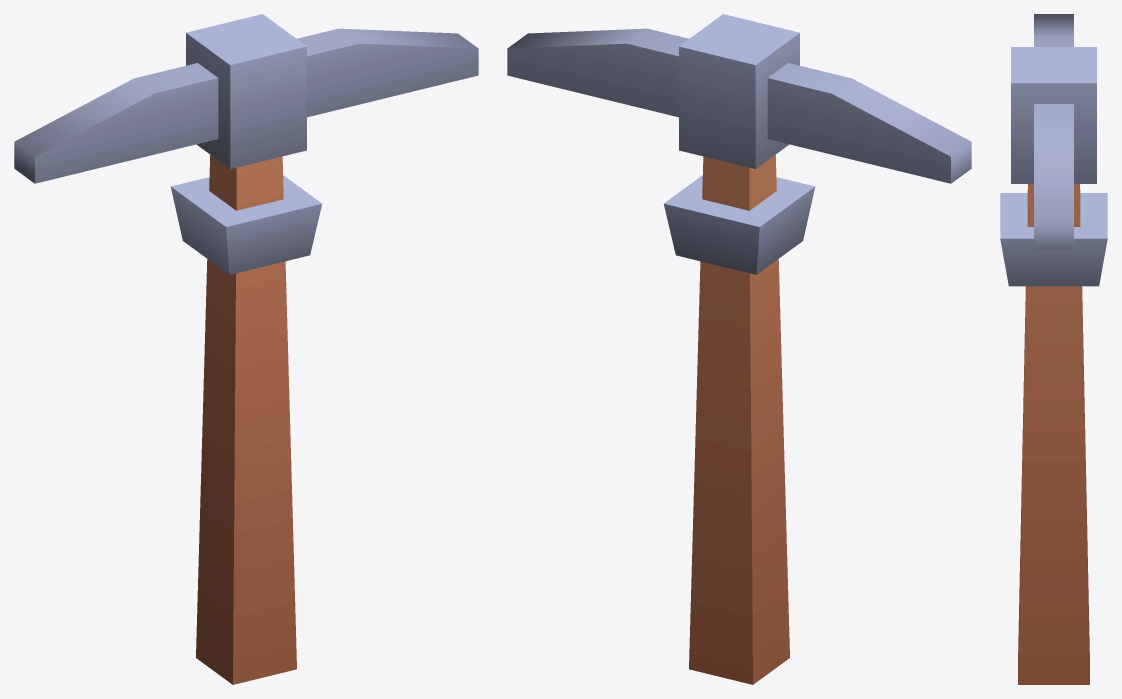
File: k-survival-tool-pickaxe.glb
3 views of the same model, side by side, from view 1: azimuth 30°, elevation 25°; view 2: azimuth 150°, elevation 25°; view 3: azimuth 270°, elevation 25° (orthographic). The views are drawn at different scales.
Parts seen in each view (by area): view 1: tool-pickaxe; view 2: tool-pickaxe; view 3: tool-pickaxe.
Part boxes in pixels (bbox=[...]): tool-pickaxe: bbox=[14, 14, 478, 684]; tool-pickaxe: bbox=[507, 14, 971, 684]; tool-pickaxe: bbox=[1000, 14, 1107, 684].
Size of the model in its own units: 0.1786 by 0.24 by 0.0387.
Materials: 1 (1 with a texture image).
